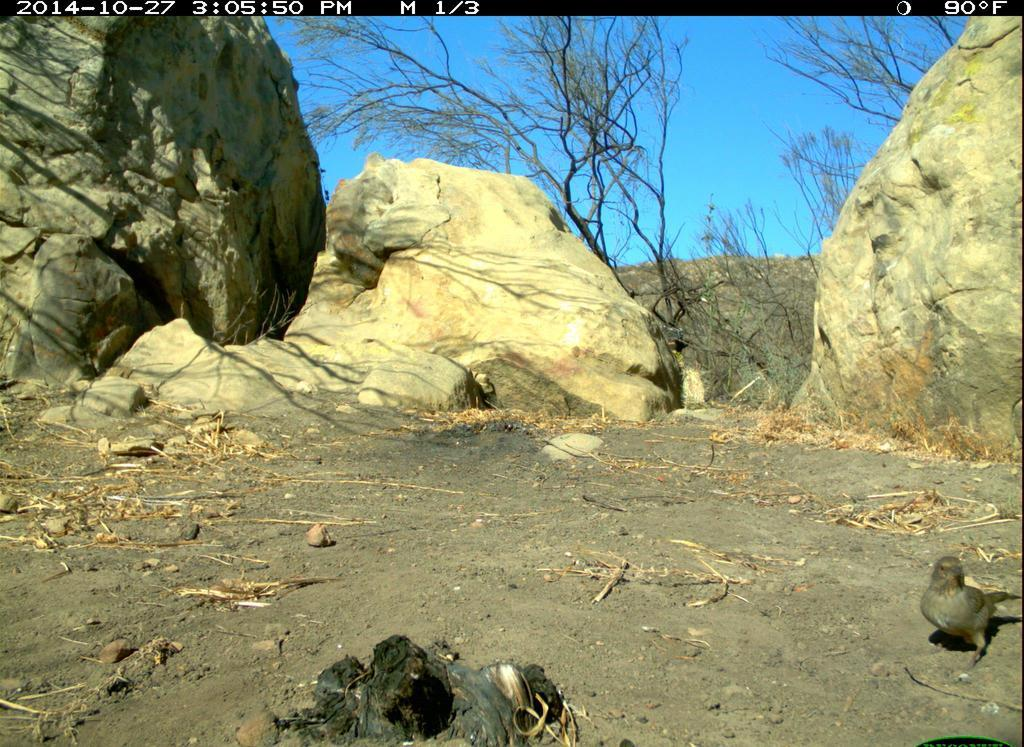bird: (922, 555, 1021, 678)
